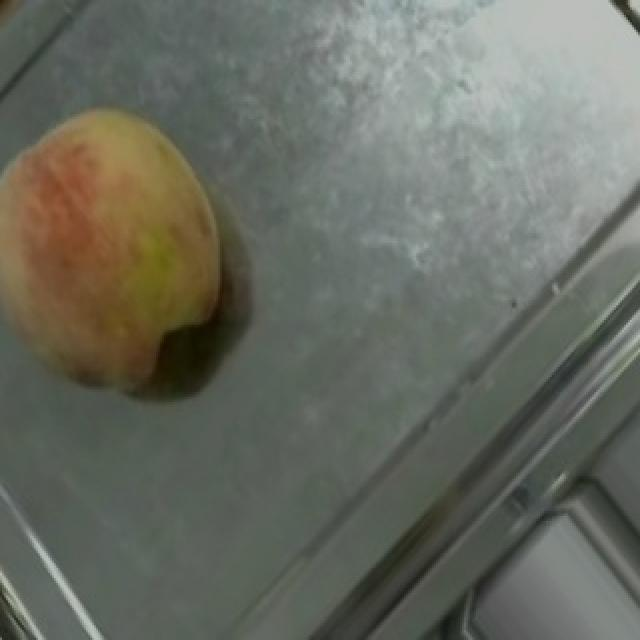Fruit: (0, 64, 270, 432)
